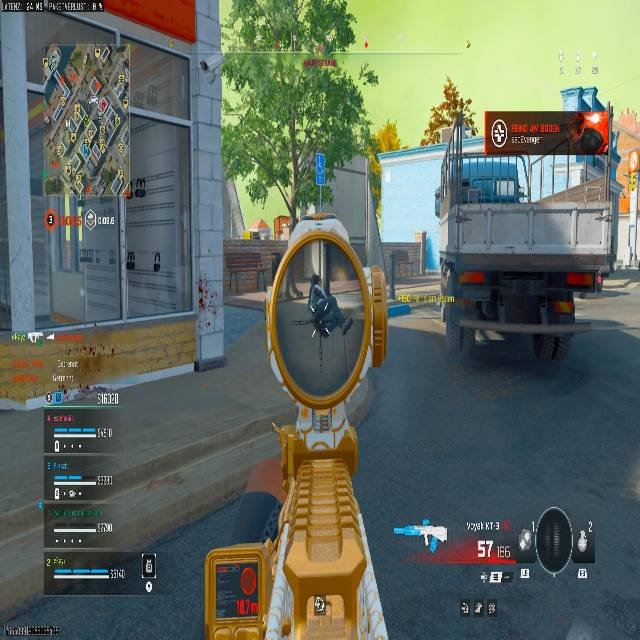head: (304, 273, 316, 292), (310, 273, 320, 286)
player: (426, 81, 477, 149), (306, 273, 353, 338)
